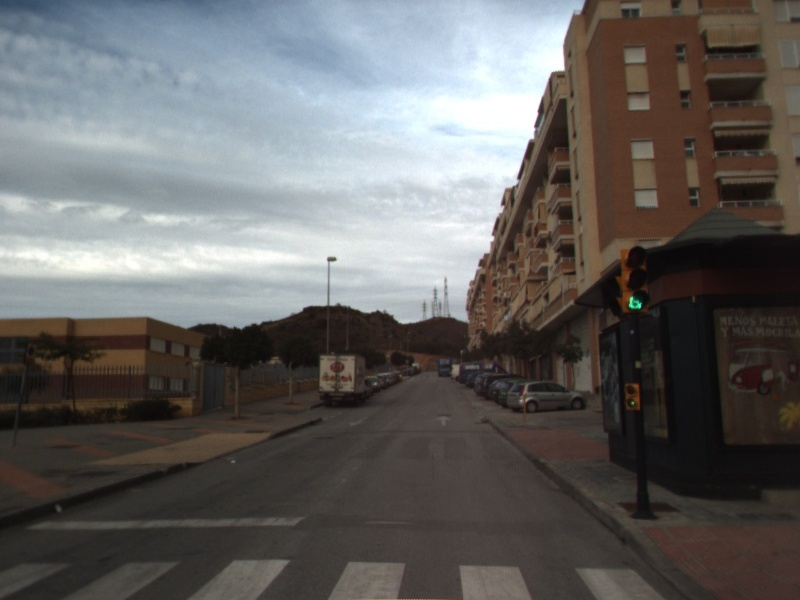STRAIGHT: (433, 413, 454, 427)
